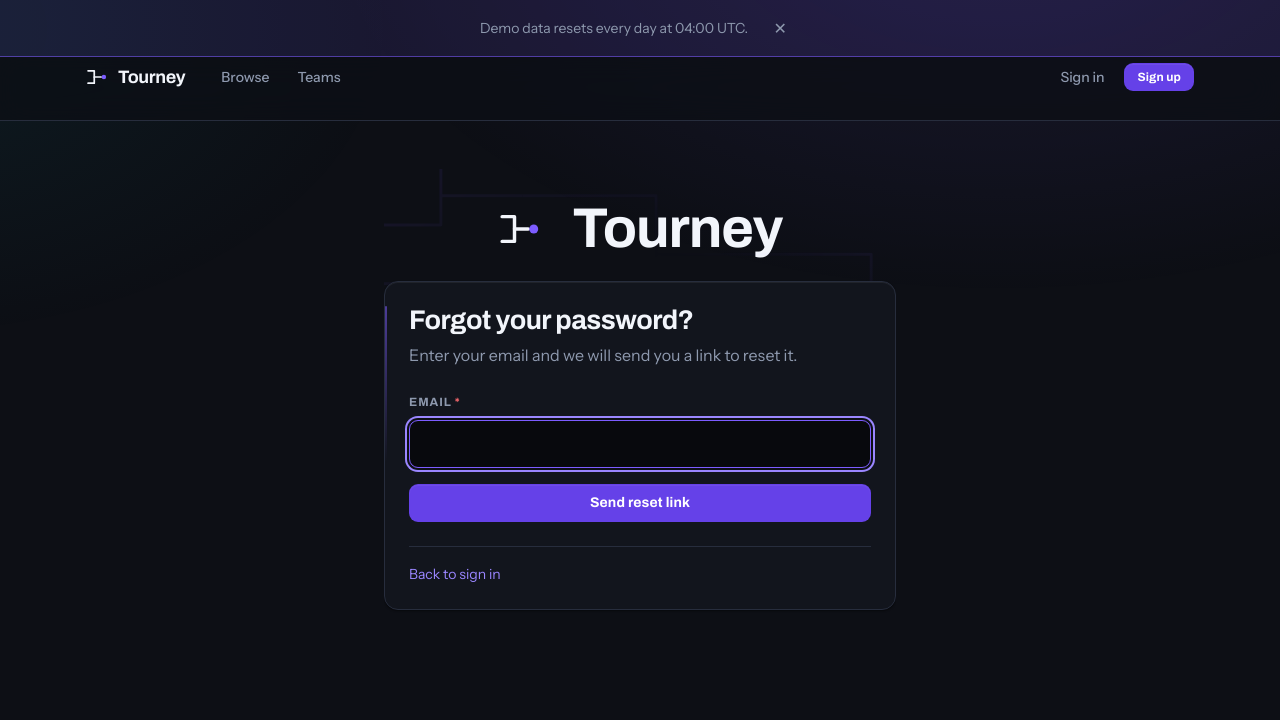
ForgotPasswordPage › submits the typed email and shows the confirmation
Type "someone@example.com" into the field labelled "Email*". click: [640, 444]
box: 409,420 -> 871,468
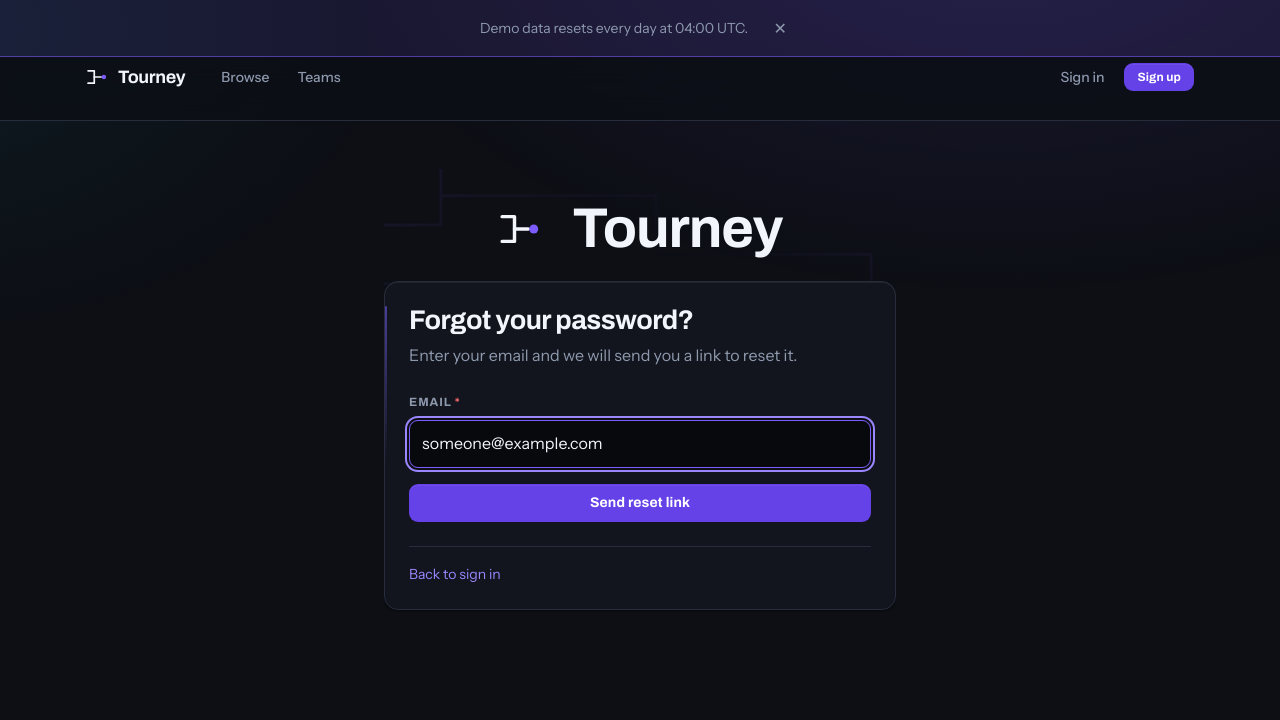
Click the button "Send reset link". click: [640, 502]
box: 409,484 -> 871,522
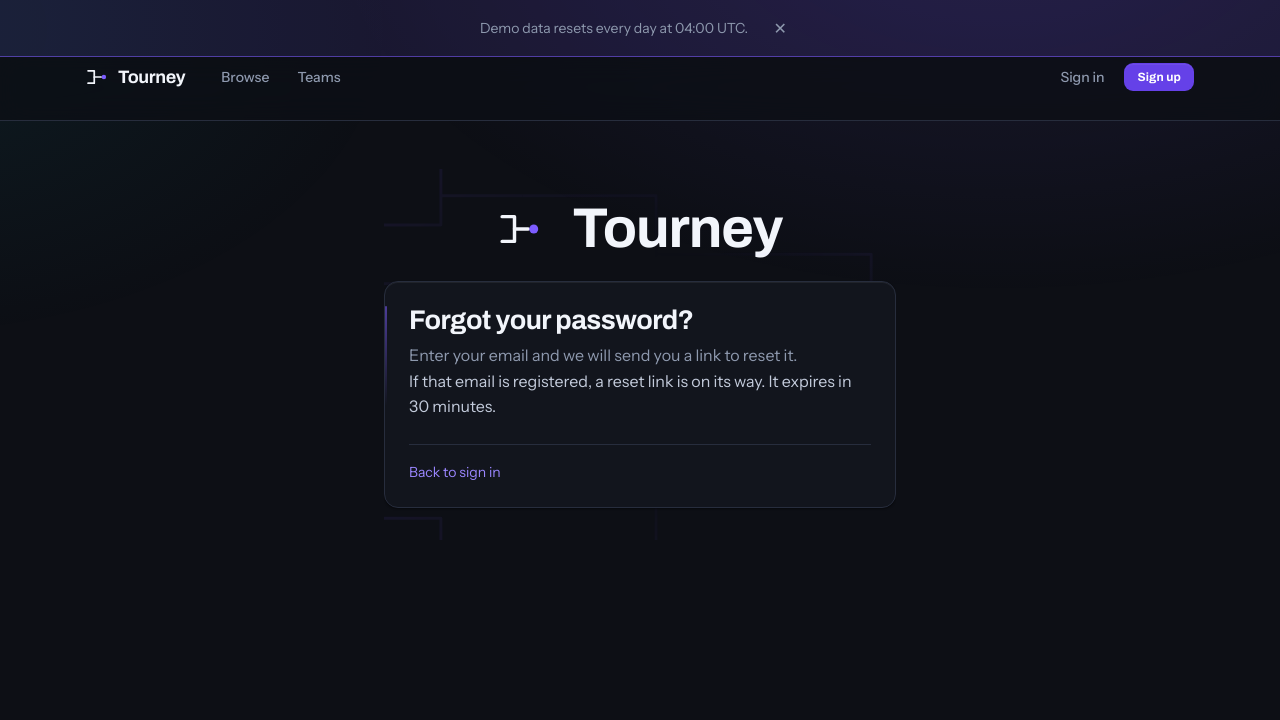
Expected: the message shows "reset link is on its way", 409,371 -> 852,416
